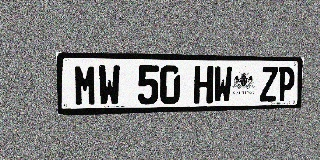0: (159, 65, 180, 104)
5: (138, 65, 159, 105)
H: (194, 66, 213, 104)
M: (73, 65, 97, 107)
P: (277, 67, 295, 101)
W: (98, 65, 120, 106), (213, 66, 233, 103)
Z: (260, 66, 278, 102)
